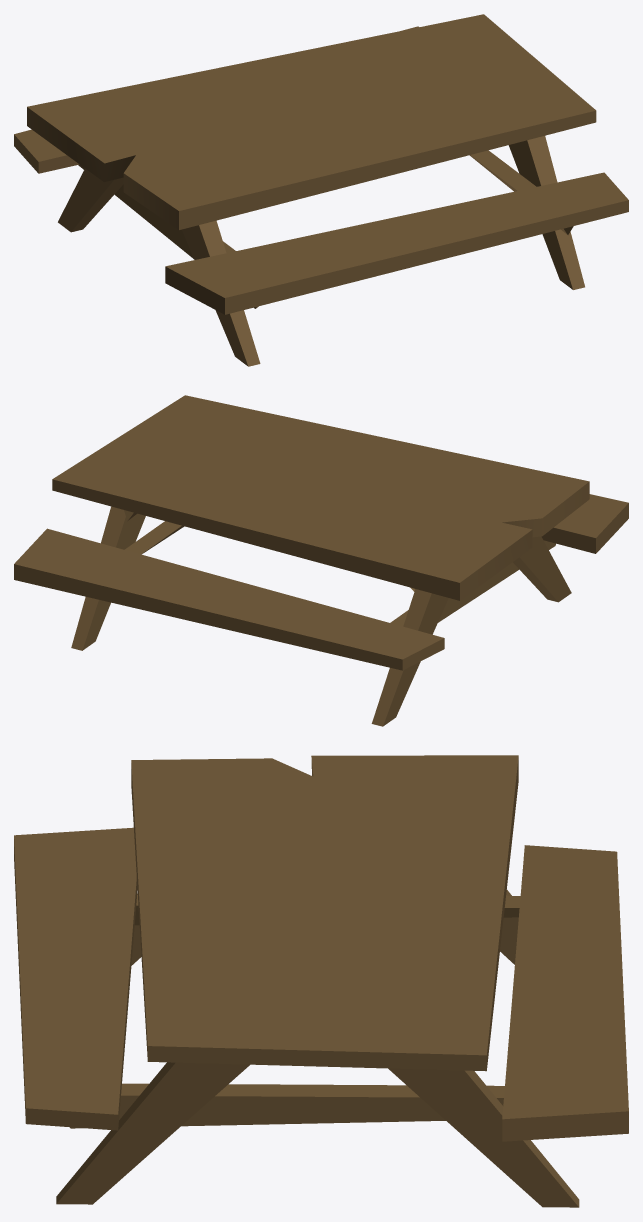
File: model_polytope_park_bench.fbx
3 renders of one model, top to bottom at view 1: azimuth 30°, elevation 25°; view 2: azimuth 150°, elevation 25°; view 3: azimuth 270°, elevation 25°, orthographic. The views are drawn at different scales.
Parts seen in each view (by area): view 1: model_polytope_park_bench; view 2: model_polytope_park_bench; view 3: model_polytope_park_bench.
Boxes of the visible parts, box(x1,y1,x2,y2) form: model_polytope_park_bench: box(14, 14, 628, 366); model_polytope_park_bench: box(14, 395, 628, 726); model_polytope_park_bench: box(14, 755, 628, 1207).
Bounding box in the file's own units: 265 × 83.62 × 236.
